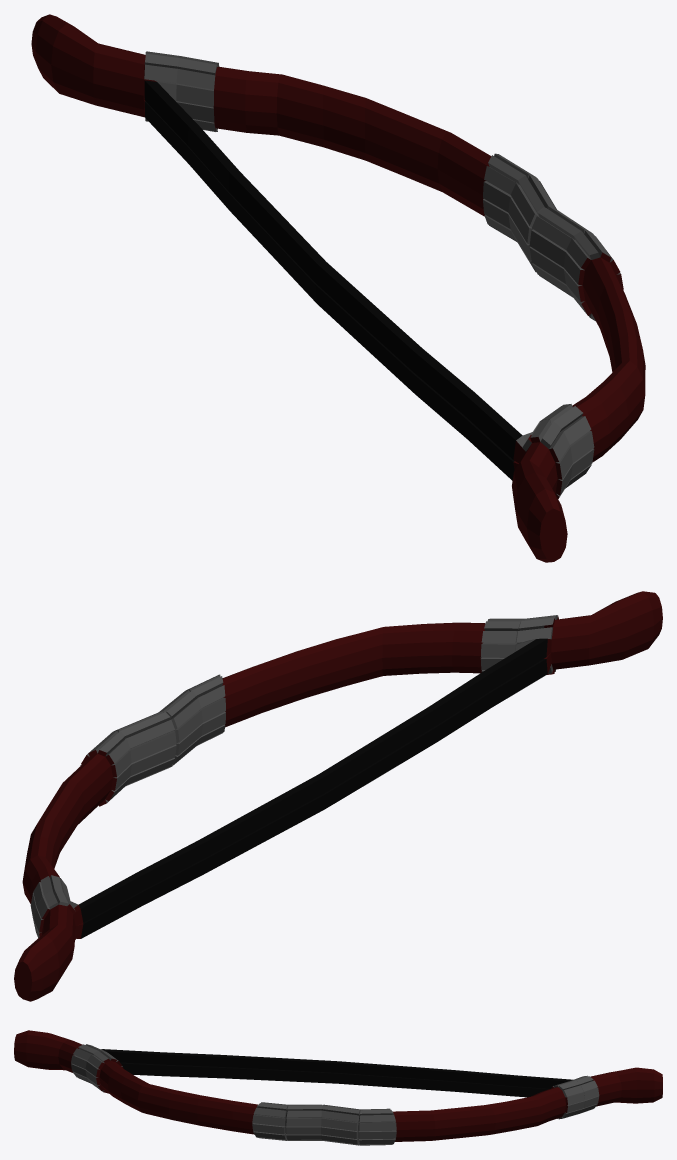
File: Arc.fbx
3 views of the same model, one above another, from view 1: azimuth 30°, elevation 25°; view 2: azimuth 150°, elevation 25°; view 3: azimuth 270°, elevation 25° (orthographic). The views are drawn at different scales.
Parts seen in each view (by area): view 1: Arc; view 2: Arc; view 3: Arc.
Part boxes in pixels (box(x1,y1,x2,y2)): Arc: box(31, 14, 645, 562); Arc: box(14, 591, 662, 1001); Arc: box(14, 1030, 662, 1145).
Size of the model in its own units: 56.62 by 12.99 by 183.
